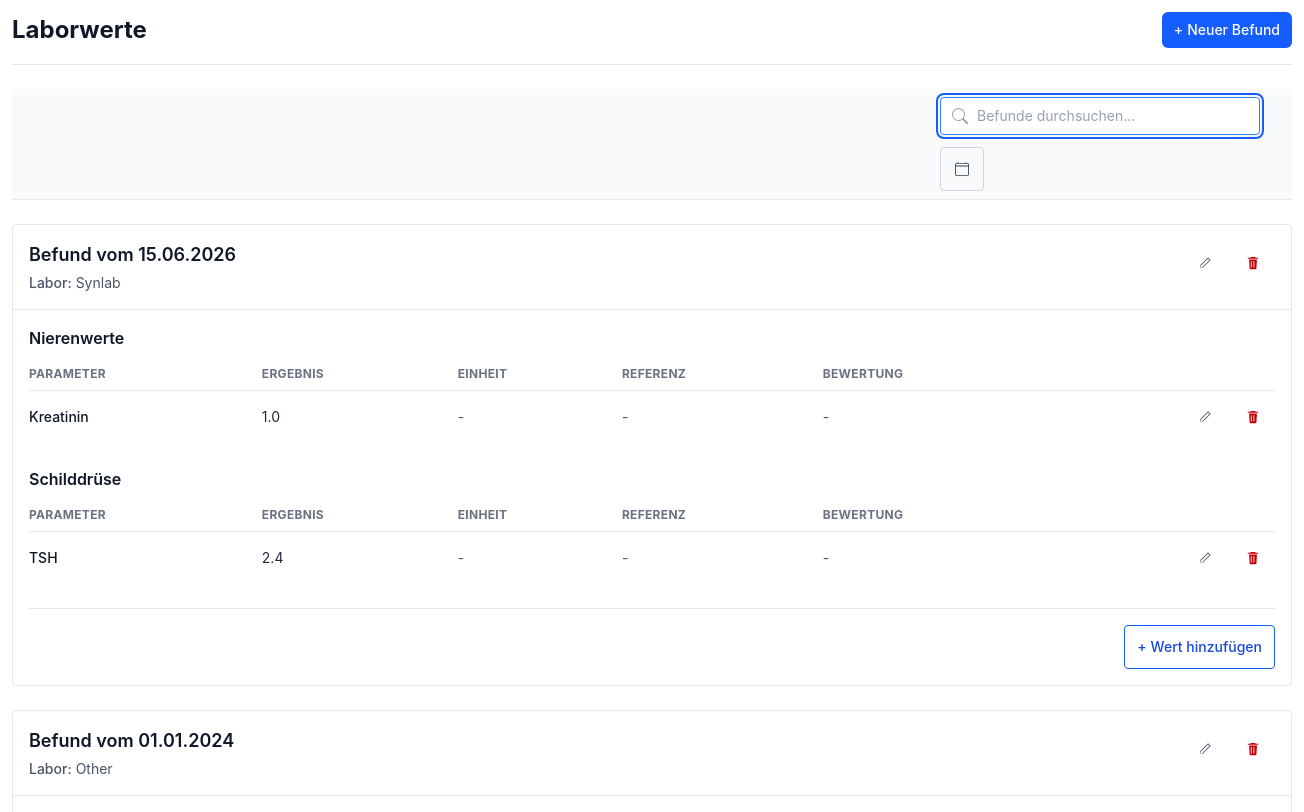
Test case: LabValuesView › search filter (P-22b) › typing a query filters reports via row-keep semantic
Type "Kreatinin" into the search field at (1100, 116), box left=940, top=97, right=1260, bottom=135
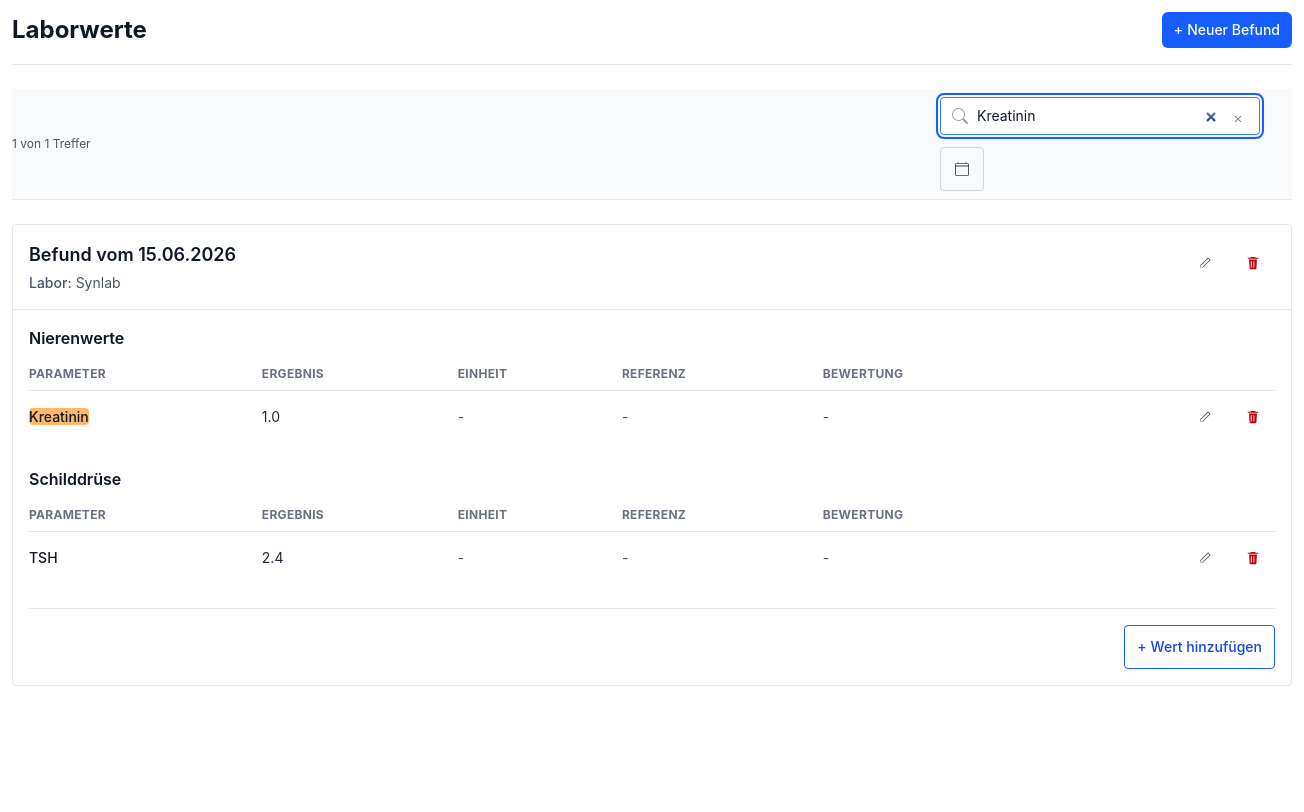
Expected: the text "Kreatinin" is shown, left=29, top=408, right=89, bottom=425
Expected: the text "Other" is gone
